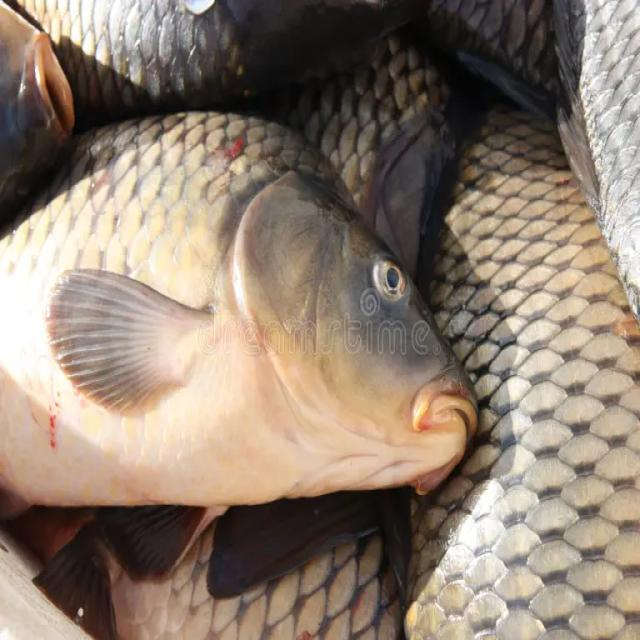Common carp: (0, 107, 481, 591)
